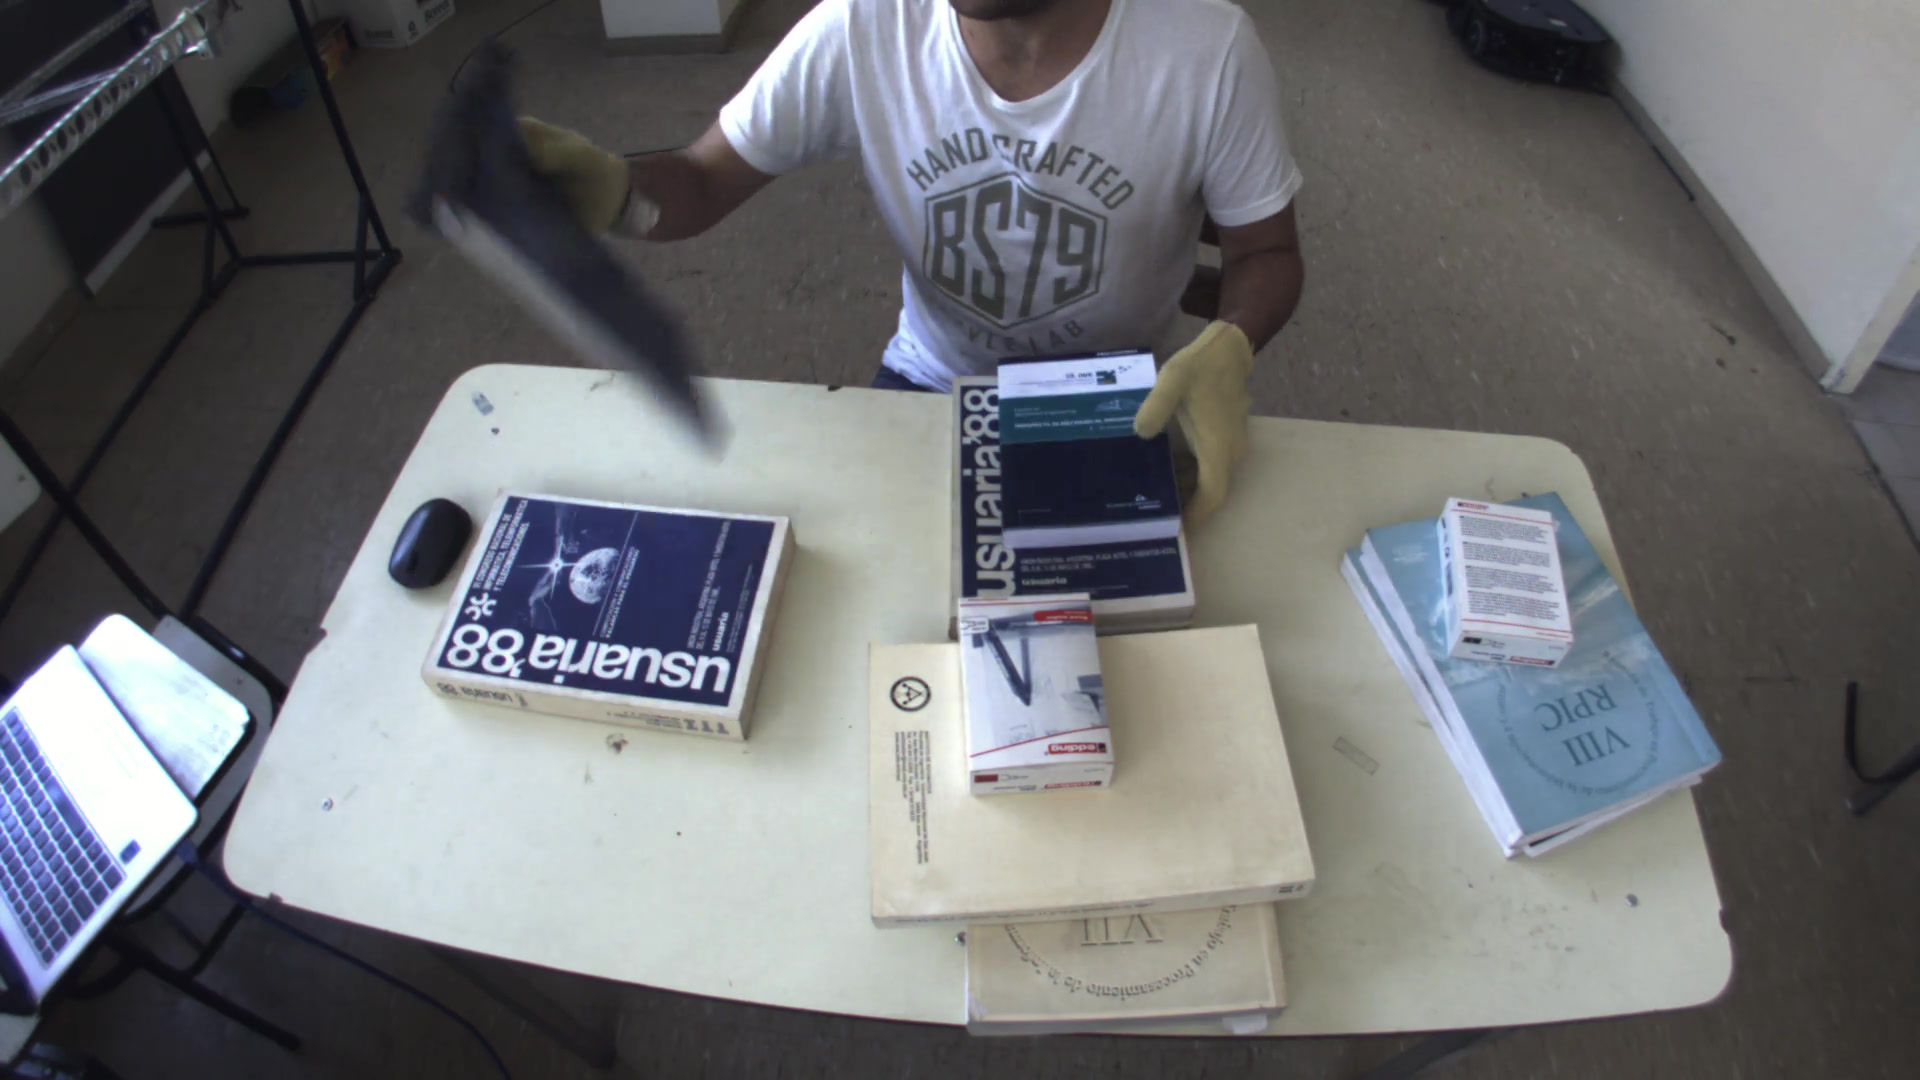hand: (1130, 310, 1269, 520), (506, 107, 641, 239)
